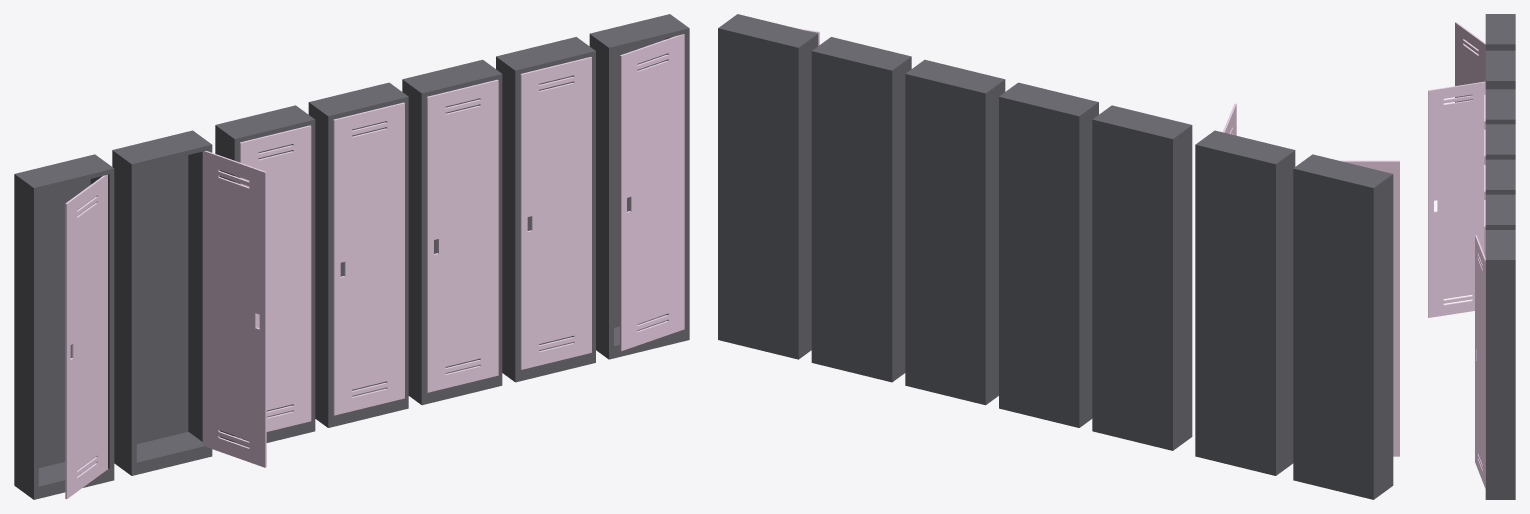
The model's file is 7 casilleros n2.fbx.
3 renders of one model, left to right at view 1: azimuth 30°, elevation 25°; view 2: azimuth 150°, elevation 25°; view 3: azimuth 270°, elevation 25°, orthographic. The views are drawn at different scales.
Visible parts, largest first — view 1: casillero 7.016, puerta casillero 1.020, puerta casillero 1.021, puerta casillero 1.018, casillero 7.015, puerta casillero 1.017, puerta casillero 1.027, puerta casillero 1.019, puerta casillero 1.015, casillero 7.021, casillero 7.019, casillero 7.020 (+2 smaller); view 2: casillero 7.018, casillero 7.015, casillero 7.016, casillero 7.020, casillero 7.019, casillero 7.017, casillero 7.021, puerta casillero 1.015; view 3: puerta casillero 1.017, casillero 7.021, puerta casillero 1.027, puerta casillero 1.015, casillero 7.016, casillero 7.015, casillero 7.017, casillero 7.018, casillero 7.019, casillero 7.020.
Part boxes in pixels (x1,y1,x2,y2): casillero 7.016: (112,130,212,475); puerta casillero 1.020: (426,79,498,392); puerta casillero 1.021: (520,57,591,369); puerta casillero 1.018: (333,102,404,415); casillero 7.015: (14,154,114,499); puerta casillero 1.017: (202,150,266,467); puerta casillero 1.027: (620,34,684,351); puerta casillero 1.019: (239,125,311,438); puerta casillero 1.015: (65,174,107,498); casillero 7.021: (589,14,689,359); casillero 7.019: (402,59,502,405); casillero 7.020: (496,37,595,382); casillero 7.018: (1092,105,1192,450); casillero 7.015: (1293,154,1393,499); casillero 7.016: (1195,130,1295,475); casillero 7.020: (811,37,911,382); casillero 7.019: (905,59,1005,405); casillero 7.017: (999,82,1098,427); casillero 7.021: (718,14,817,359); puerta casillero 1.015: (1339,160,1399,456); puerta casillero 1.017: (1428,81,1485,317); casillero 7.021: (1485,230,1515,499); puerta casillero 1.027: (1475,235,1485,488); puerta casillero 1.015: (1455,22,1485,102); casillero 7.016: (1485,50,1515,89); casillero 7.015: (1485,14,1515,50); casillero 7.017: (1485,124,1515,159); casillero 7.018: (1485,89,1515,124); casillero 7.019: (1485,159,1515,194); casillero 7.020: (1485,194,1515,229).
Size of the model in its own units: 701 by 318 by 105.
